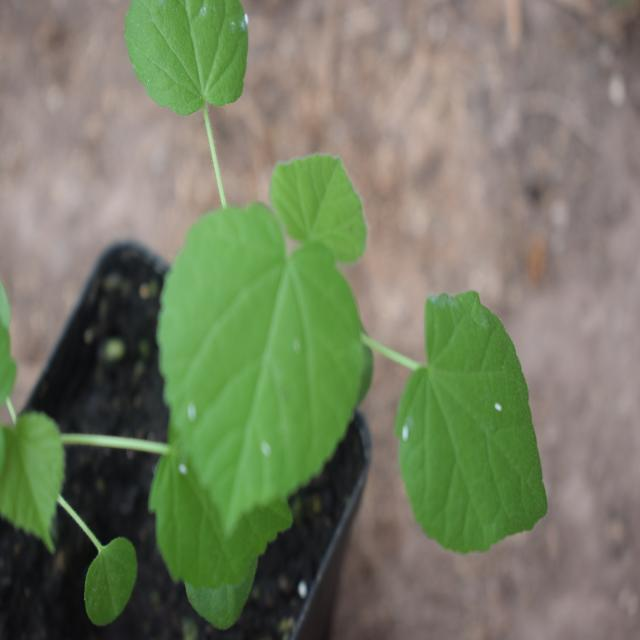abutilon theophrasti: (112, 0, 521, 578)
